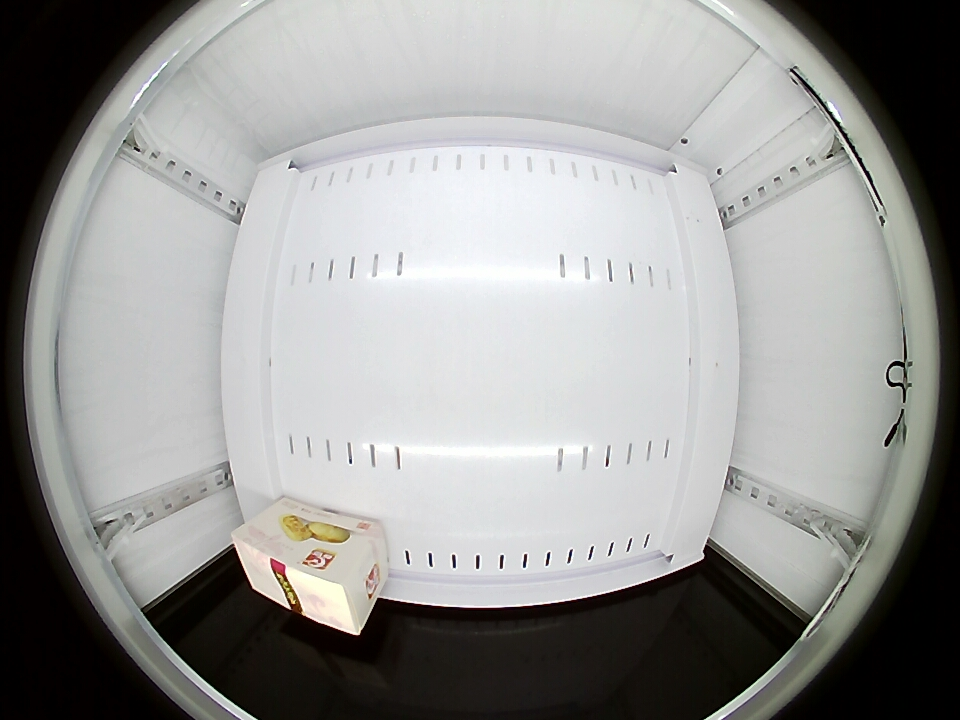rousongbing: (232, 509, 377, 636)
